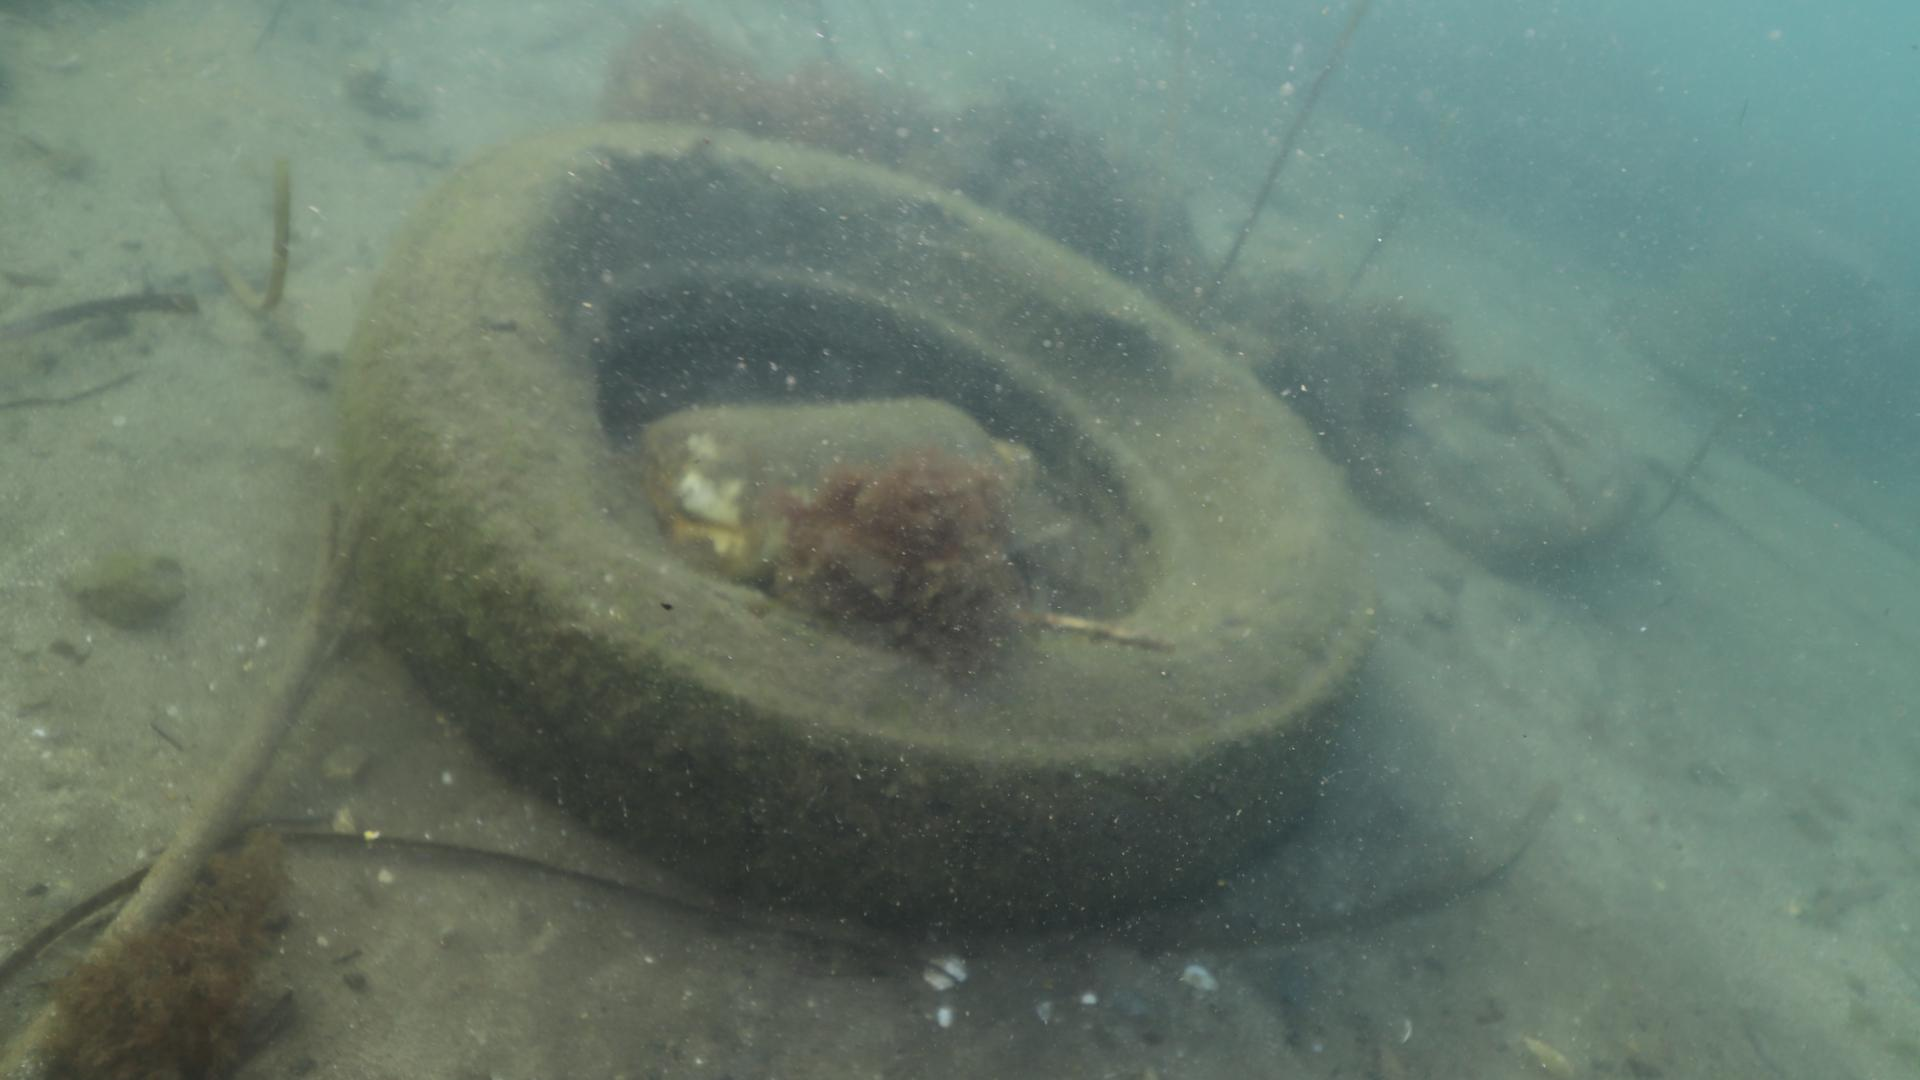tire: (340, 116, 1385, 923)
